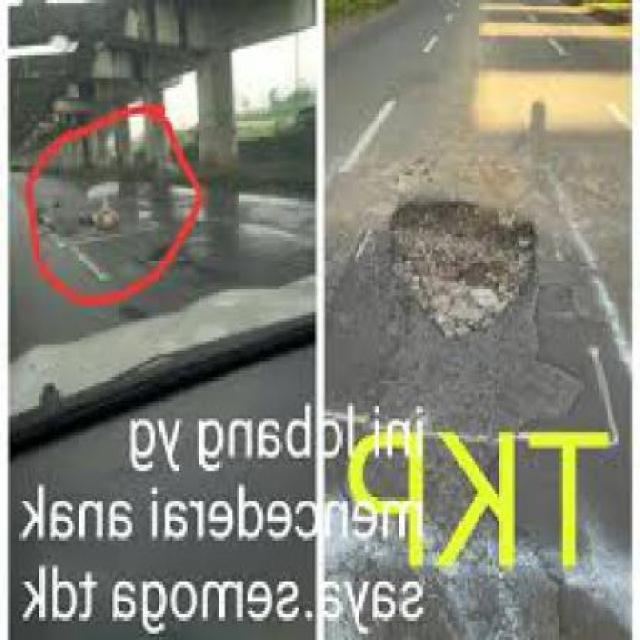pothole: (384, 185, 544, 342)
